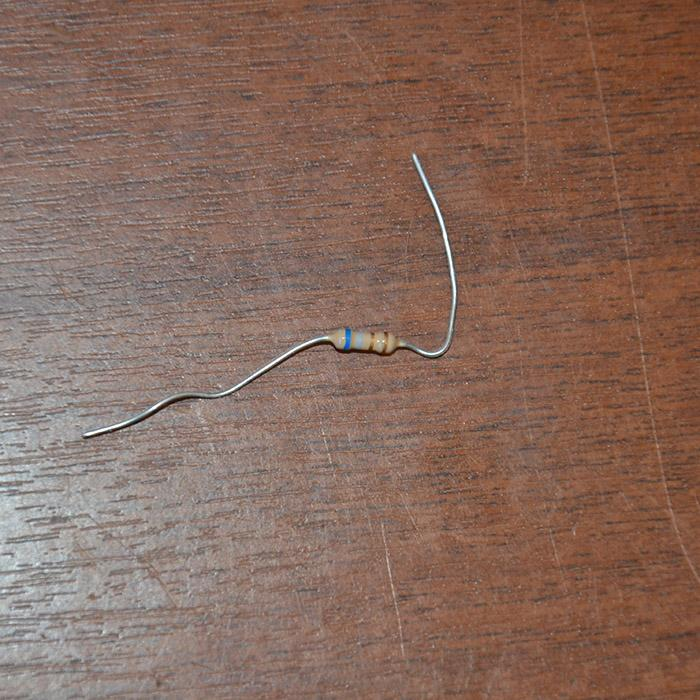resistor: (327, 326, 397, 355)
